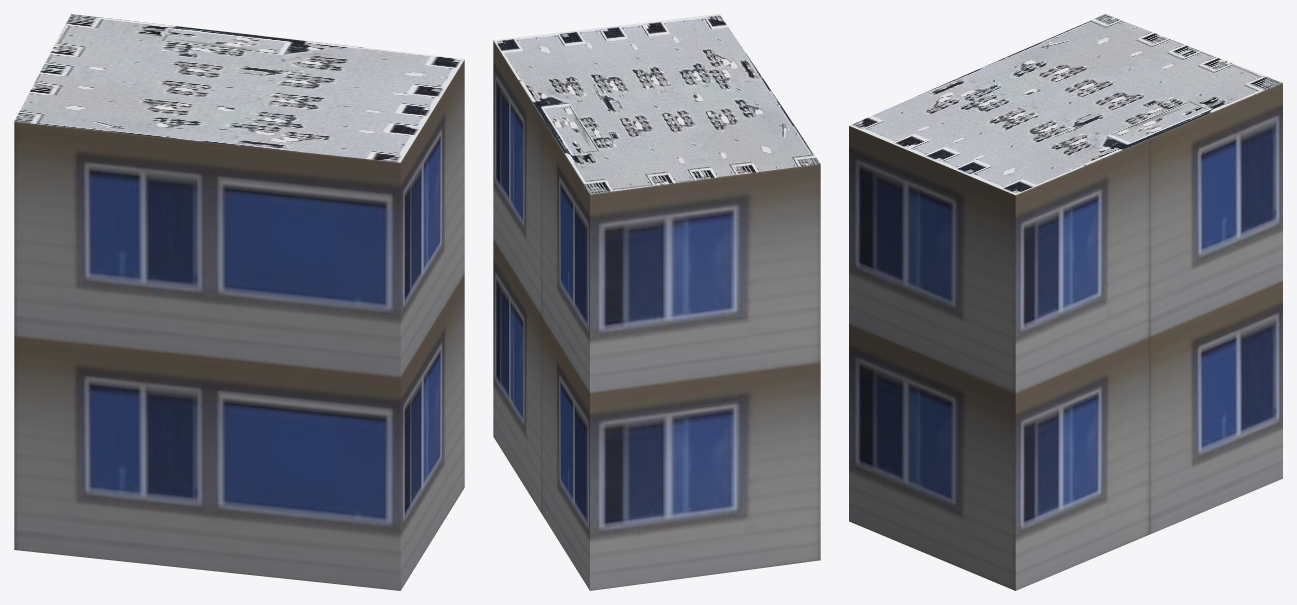
The model's file is ResTex__2985.fbx.
3 renders of one model, left to right at view 1: azimuth 30°, elevation 25°; view 2: azimuth 150°, elevation 25°; view 3: azimuth 270°, elevation 25°, orthographic. The views are drawn at different scales.
Parts seen in each view (by area): view 1: CityEngineMaterial_23_m, CityEngineMaterial_4_m; view 2: CityEngineMaterial_23_m, CityEngineMaterial_4_m; view 3: CityEngineMaterial_23_m, CityEngineMaterial_4_m.
Part boxes in pixels (left/top/right/bottom): CityEngineMaterial_23_m: left=14, top=60, right=464, bottom=590; CityEngineMaterial_4_m: left=14, top=14, right=464, bottom=162; CityEngineMaterial_23_m: left=493, top=40, right=820, bottom=590; CityEngineMaterial_4_m: left=493, top=14, right=820, bottom=194; CityEngineMaterial_23_m: left=849, top=83, right=1282, bottom=590; CityEngineMaterial_4_m: left=849, top=14, right=1282, bottom=195.
Size of the model in its own units: 5.9 by 6 by 5.96.
Materials: 2 (2 with a texture image).
